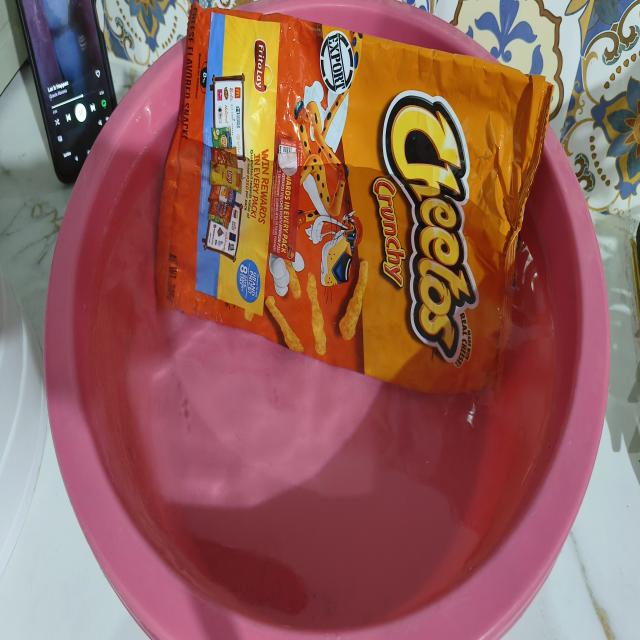Plastic Wrapper: (156, 3, 552, 392)
